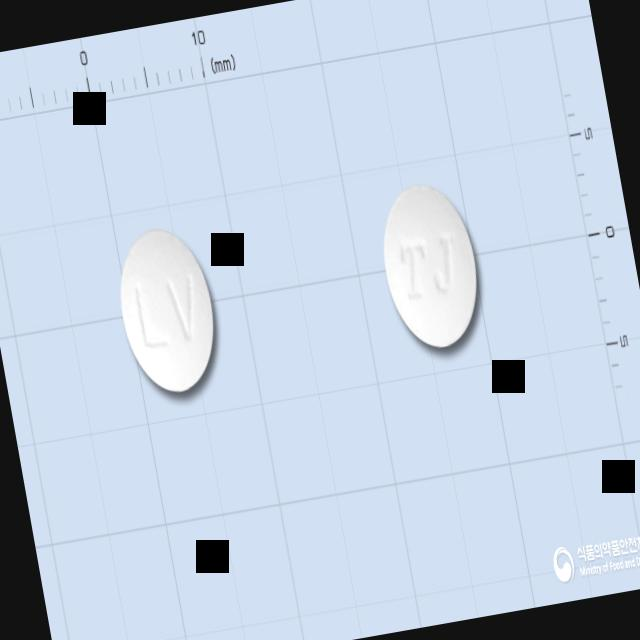TaeJoon Levofloxacin Tab: (108, 220, 226, 398), (372, 176, 489, 354)
